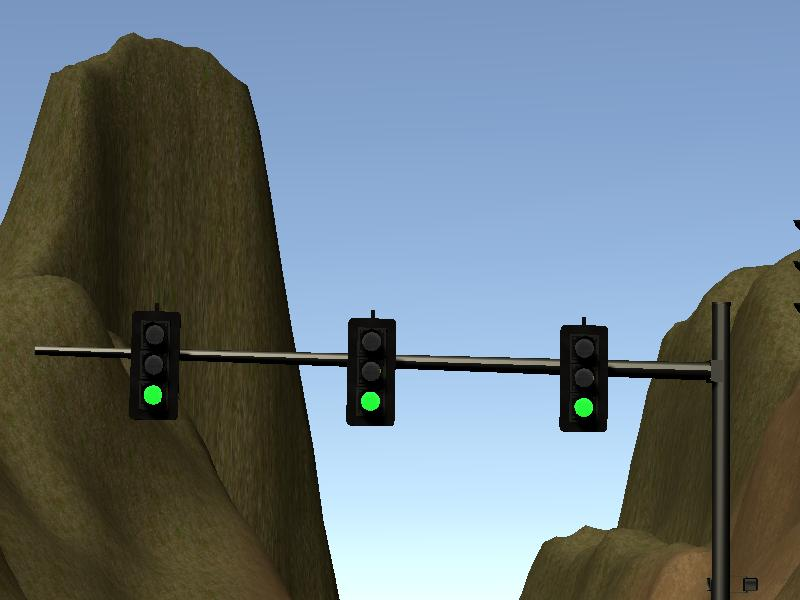Green: (134, 312, 179, 420), (562, 324, 607, 431), (349, 317, 392, 427)
